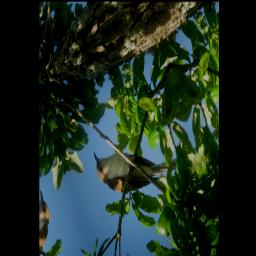Cuckoo: (90, 101, 183, 220)
